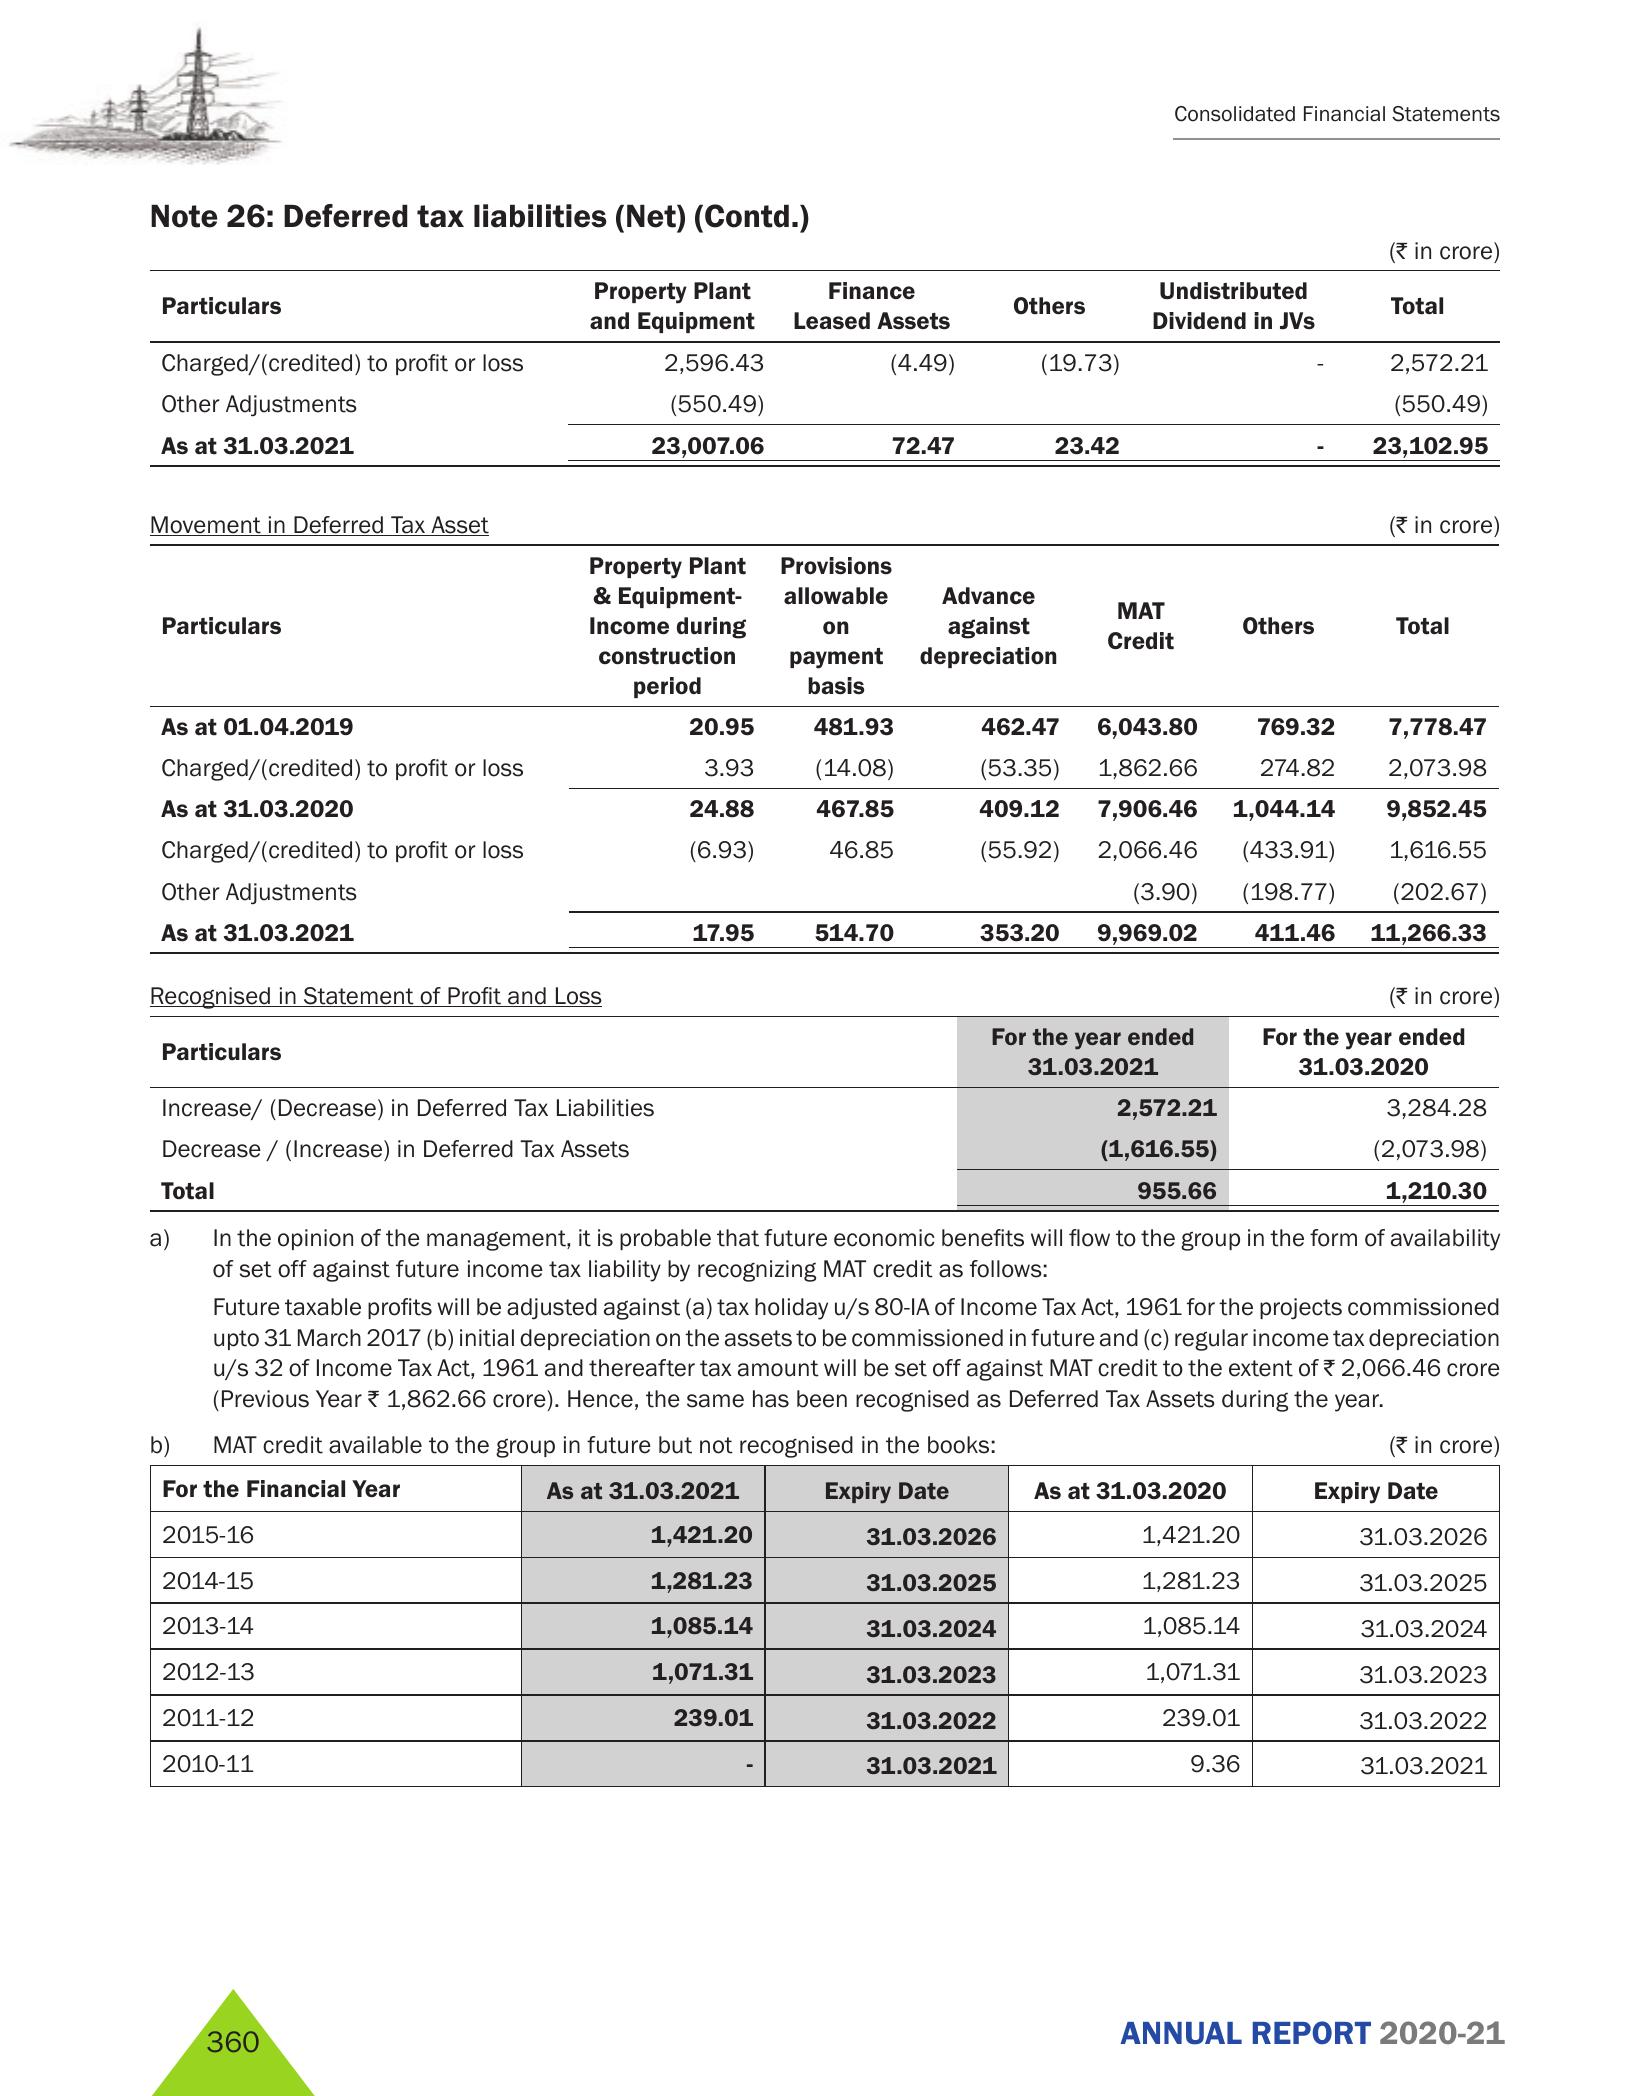Footer: (0, 1962, 1650, 2096)
Header: (0, 0, 1650, 175)
Table: (105, 539, 1533, 953), (117, 1467, 1524, 1790), (105, 1012, 1536, 1210), (105, 271, 1548, 463)
